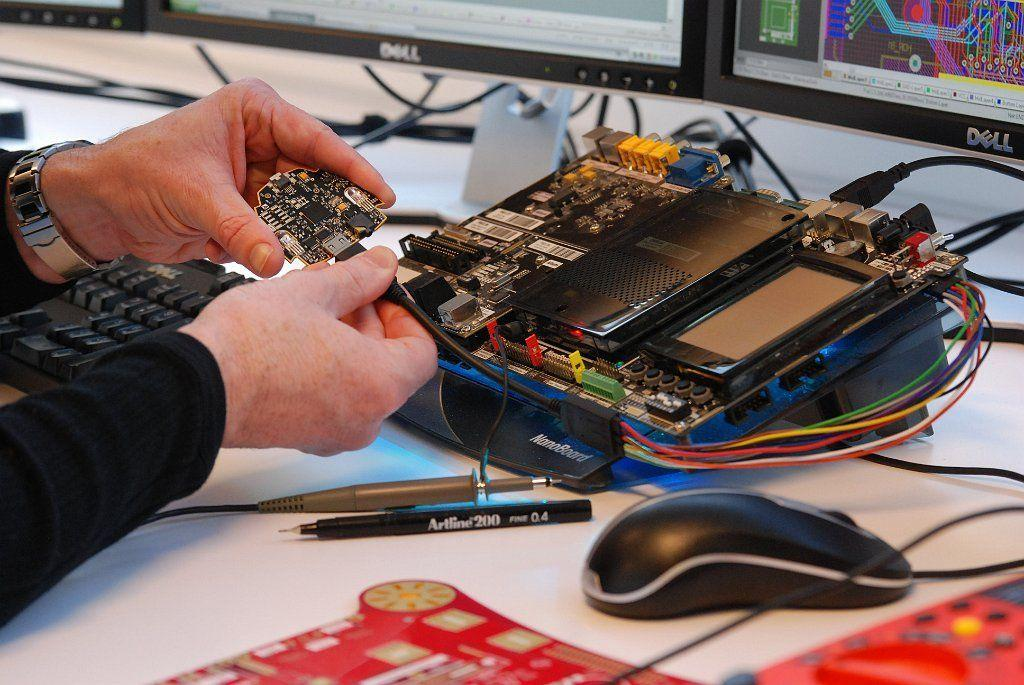Computer-mouse: (580, 488, 915, 616)
